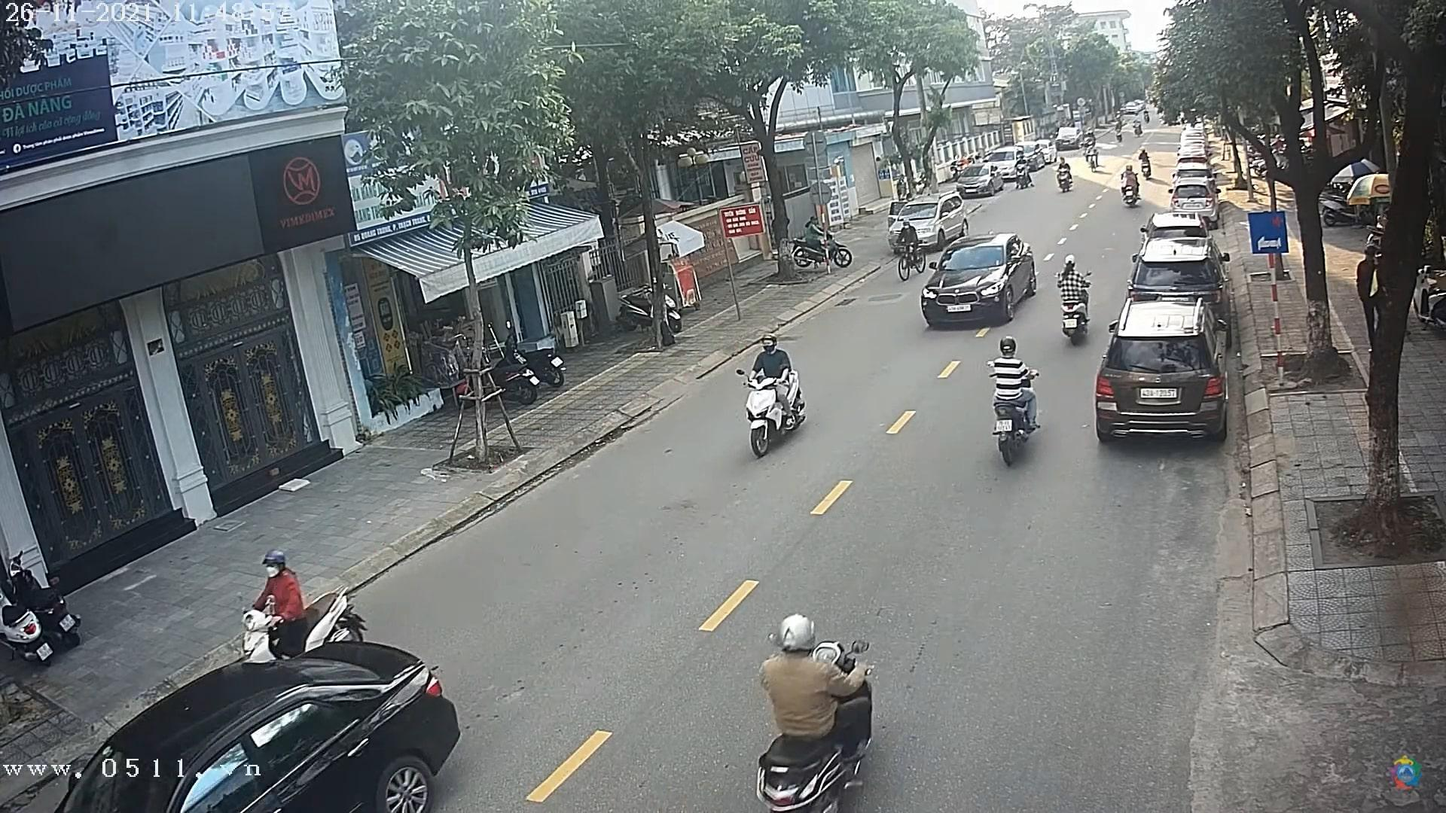car: (1097, 309, 1226, 443), (920, 232, 1043, 333), (1128, 242, 1226, 302), (958, 160, 1011, 198)
motorbike: (743, 369, 807, 465), (991, 382, 1043, 467), (1057, 294, 1093, 343)
